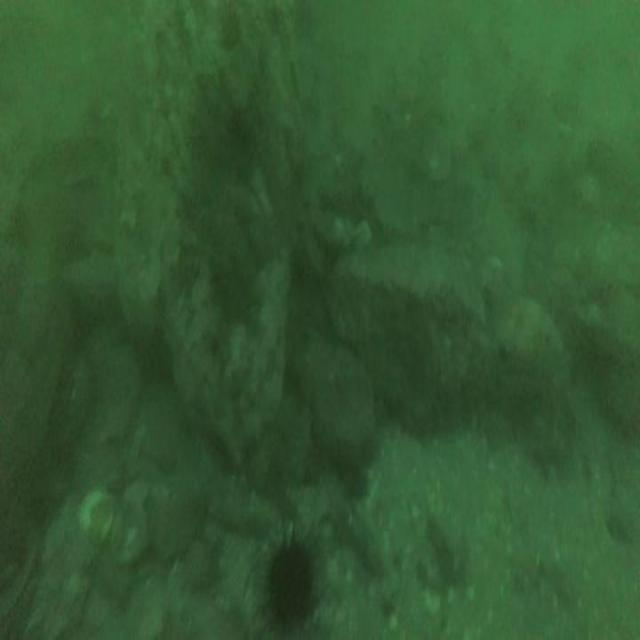echinus: (268, 544, 314, 622)
scallop: (76, 485, 111, 545)
